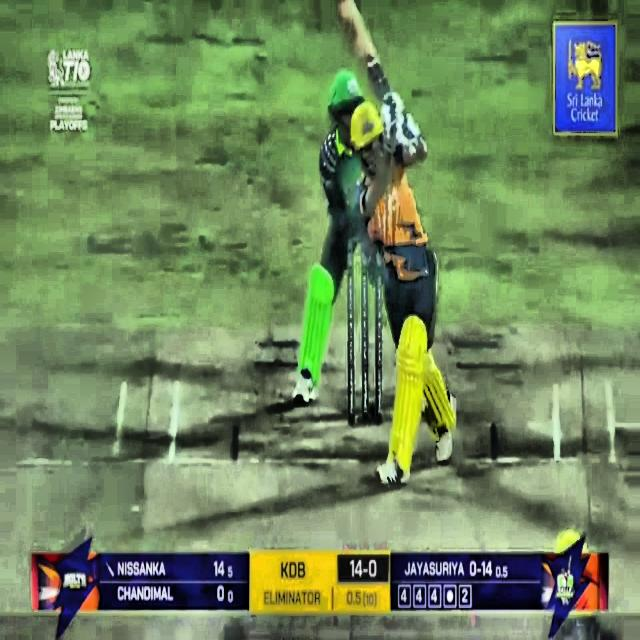Left-stump: (347, 242, 355, 425)
Middle-stump: (363, 252, 369, 422)
Right-stump: (376, 276, 382, 426)
